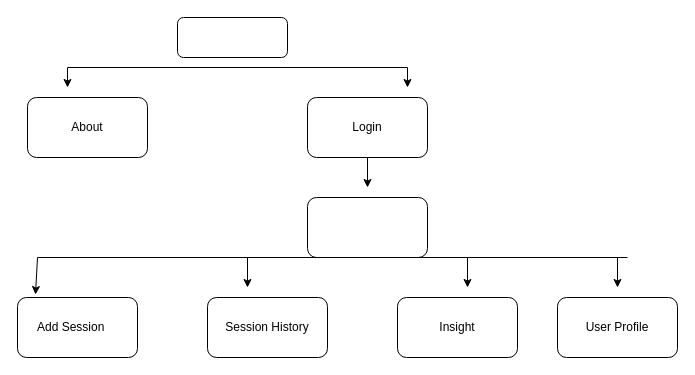
Image size: 695x375. Some labels were removed from this diagram. Here are the shapes that lost their labels. From the top down, the centre of each, then its label:
At point 232,37: "Reading Tracker Homepage".
At point 367,227: "Dashboard".
